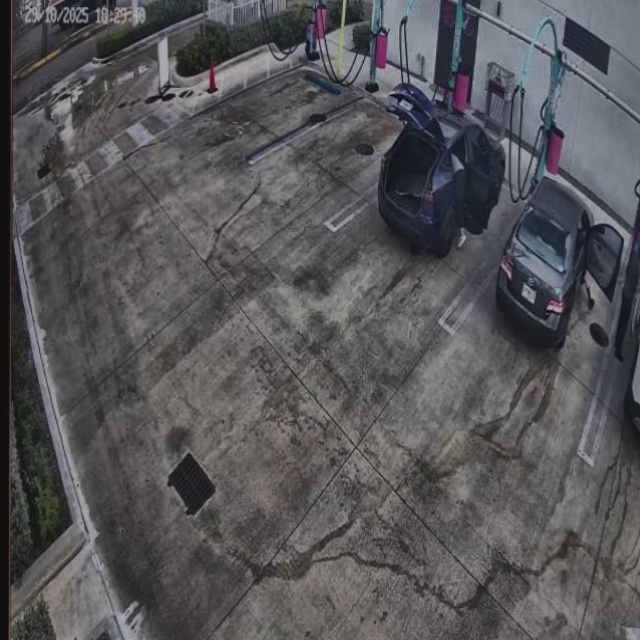Car: (379, 86, 506, 255)
